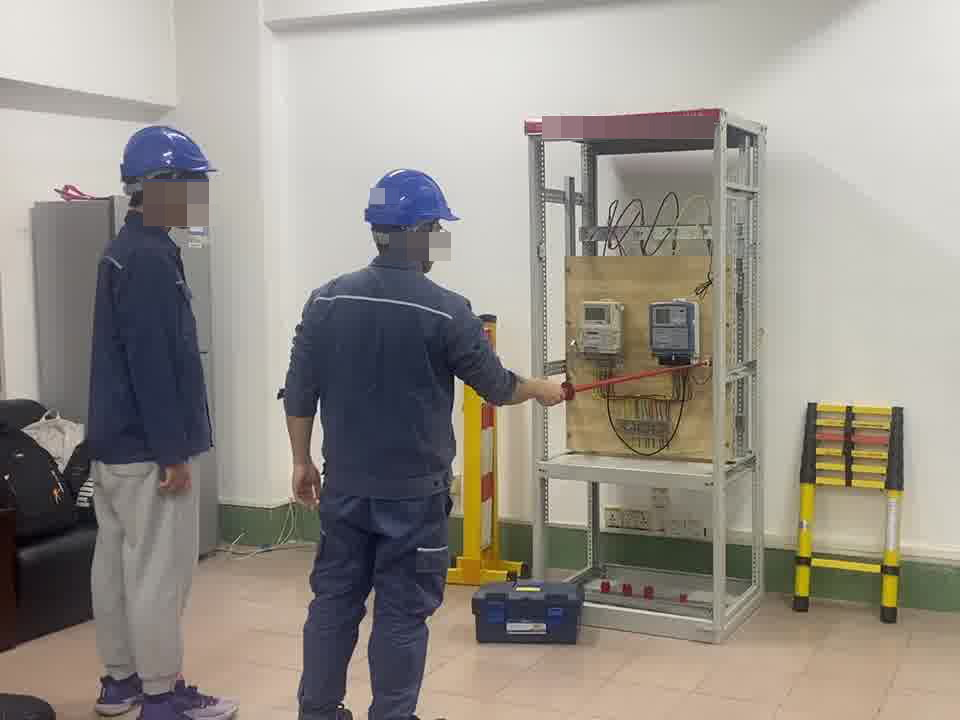downcloth: (79, 455, 203, 698)
downsuit: (294, 499, 452, 720)
halt: (117, 123, 217, 230), (363, 167, 458, 268)
hand: (288, 460, 324, 512), (155, 459, 198, 496), (537, 371, 569, 410)
inear: (141, 166, 181, 222), (409, 222, 434, 264)
person: (276, 164, 569, 720), (34, 122, 223, 718)
testrod: (555, 349, 715, 403)
upsuit: (282, 259, 517, 488), (87, 222, 212, 472)
wrongtop: (274, 375, 325, 477), (489, 357, 565, 420)
